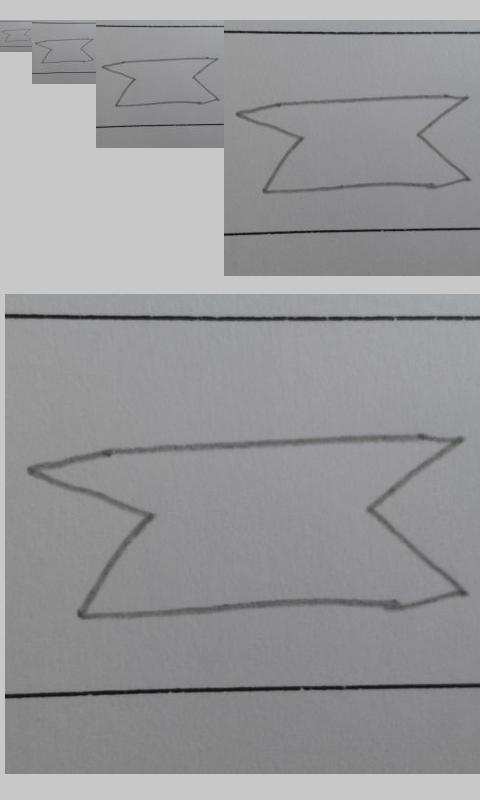edit_text: (26, 431, 469, 620), (236, 94, 472, 194), (102, 56, 220, 107), (35, 38, 94, 64), (1, 28, 31, 43)
